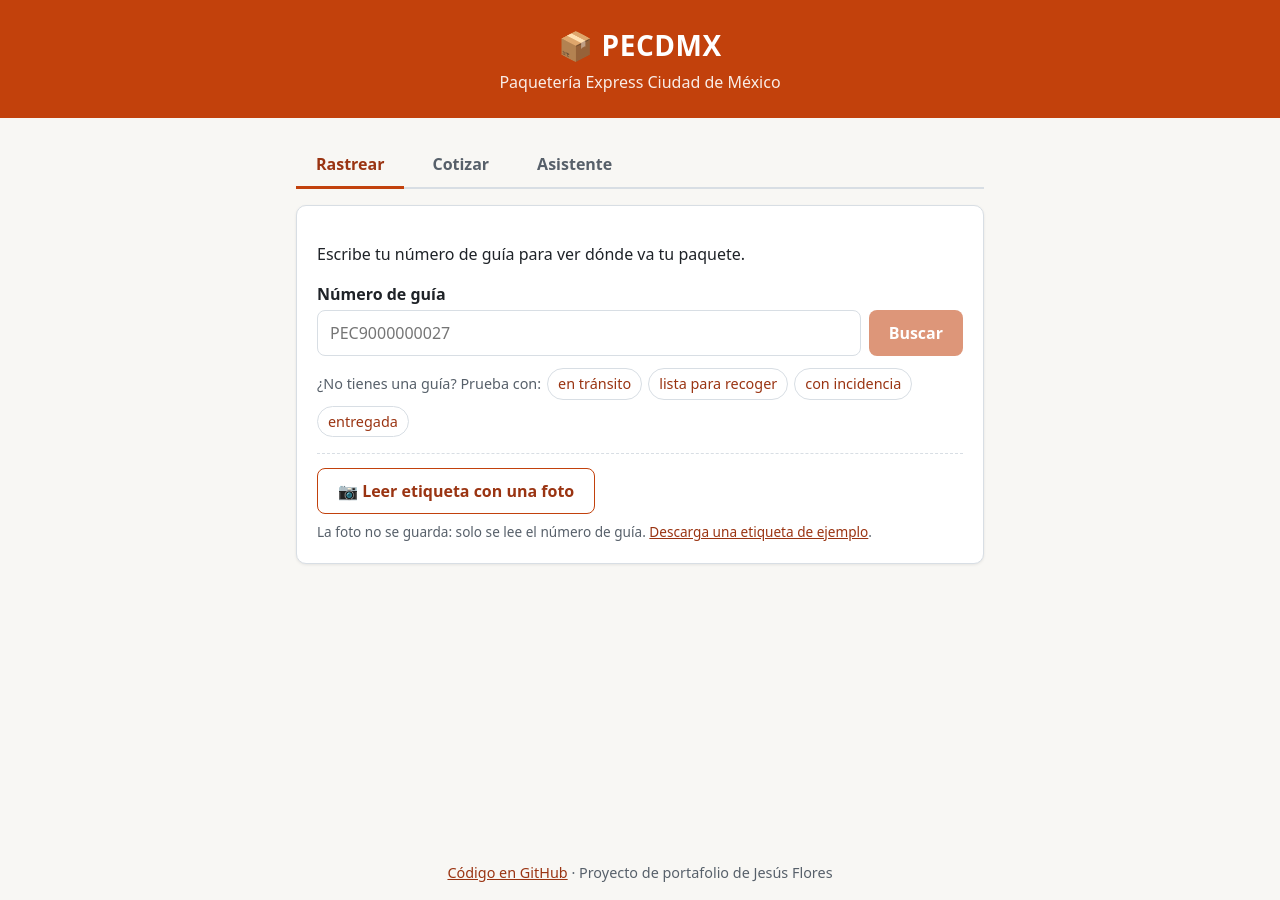
App › la pestaña Asistente abre el chat
The image size is (1280, 900).
Click the tab "Asistente": (575, 166) [517, 142, 632, 189]
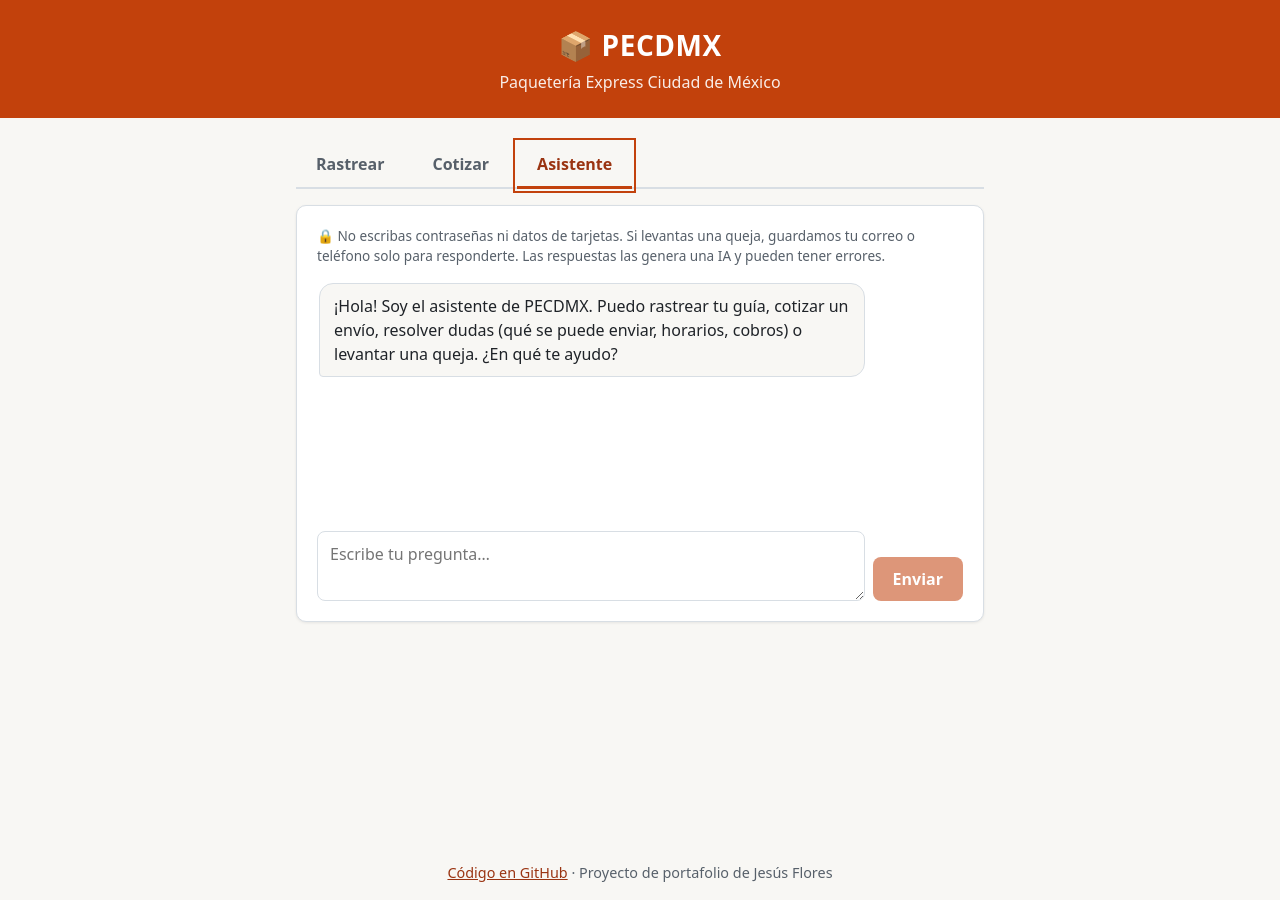
Now the text box named "Tu mensaje" is shown, box [317, 531, 865, 601]
